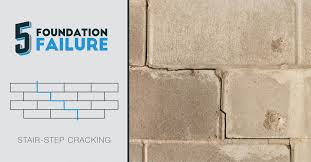stairstep_crack: (142, 0, 292, 161)
